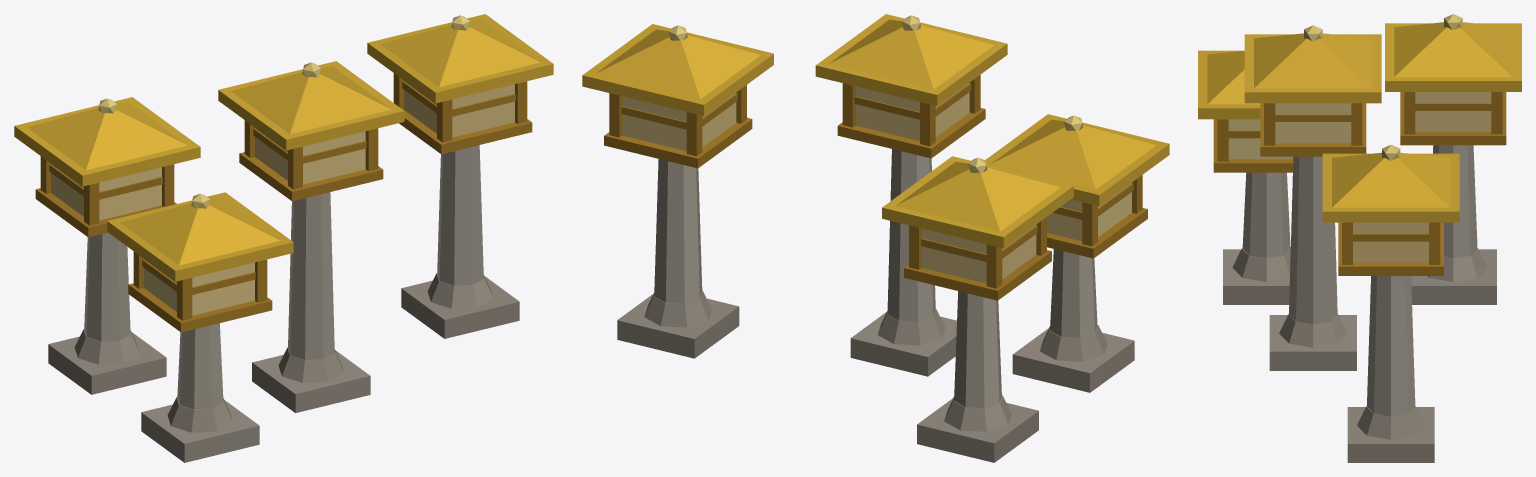
File: Decor_DogeAltar_Lanterns.fbx
3 renders of one model, left to right at view 1: azimuth 30°, elevation 25°; view 2: azimuth 150°, elevation 25°; view 3: azimuth 270°, elevation 25°, orthographic. The views are drawn at different scales.
Visible parts, largest first — view 1: Lanterns_Body; view 2: Lanterns_Body; view 3: Lanterns_Body.
Boxes of the visible parts, x1,y1,x2,y2 form: Lanterns_Body: (14,14,553,462); Lanterns_Body: (582,14,1169,462); Lanterns_Body: (1198,14,1521,462).
Size of the model in its own units: 16.4 by 11.6 by 10.4.
